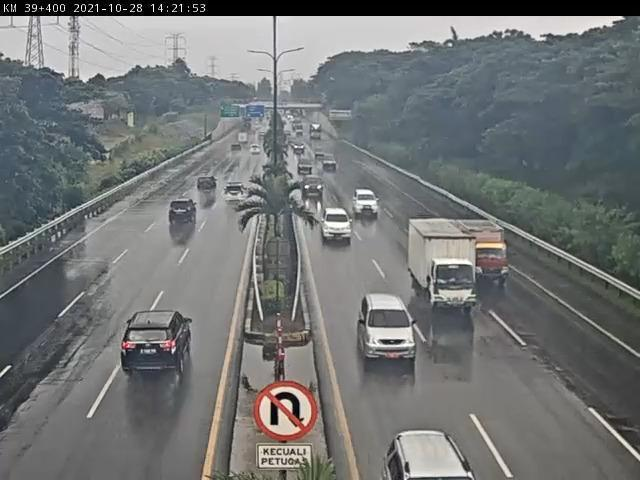car: (122, 307, 194, 372), (360, 294, 419, 365), (320, 207, 354, 244), (353, 186, 381, 218), (170, 198, 201, 225), (223, 182, 251, 206), (304, 176, 327, 199), (197, 174, 219, 194)
truck: (407, 219, 479, 312), (459, 221, 513, 290)
